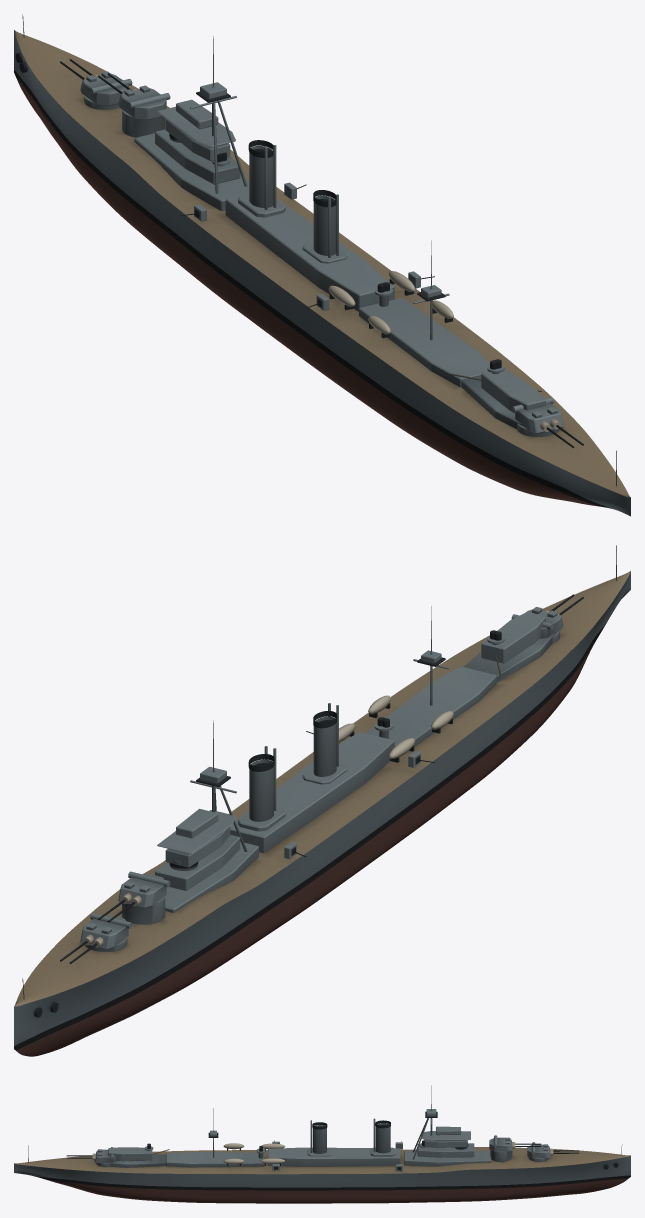
The model's file is furutaka.glb.
The picture shows the model from 3 angles, top to bottom: view 1: azimuth 30°, elevation 25°; view 2: azimuth 150°, elevation 25°; view 3: azimuth 270°, elevation 25°; orthographic projection. The views are drawn at different scales.
Parts seen in each view (by area): view 1: furutaka; view 2: furutaka; view 3: furutaka.
Part boxes in pixels (x1=…): furutaka: x1=14, y1=14, x2=630, y2=516; furutaka: x1=14, y1=545, x2=630, y2=1056; furutaka: x1=14, y1=1085, x2=630, y2=1203.
Size of the model in its own units: 21.95 by 35.46 by 182.
